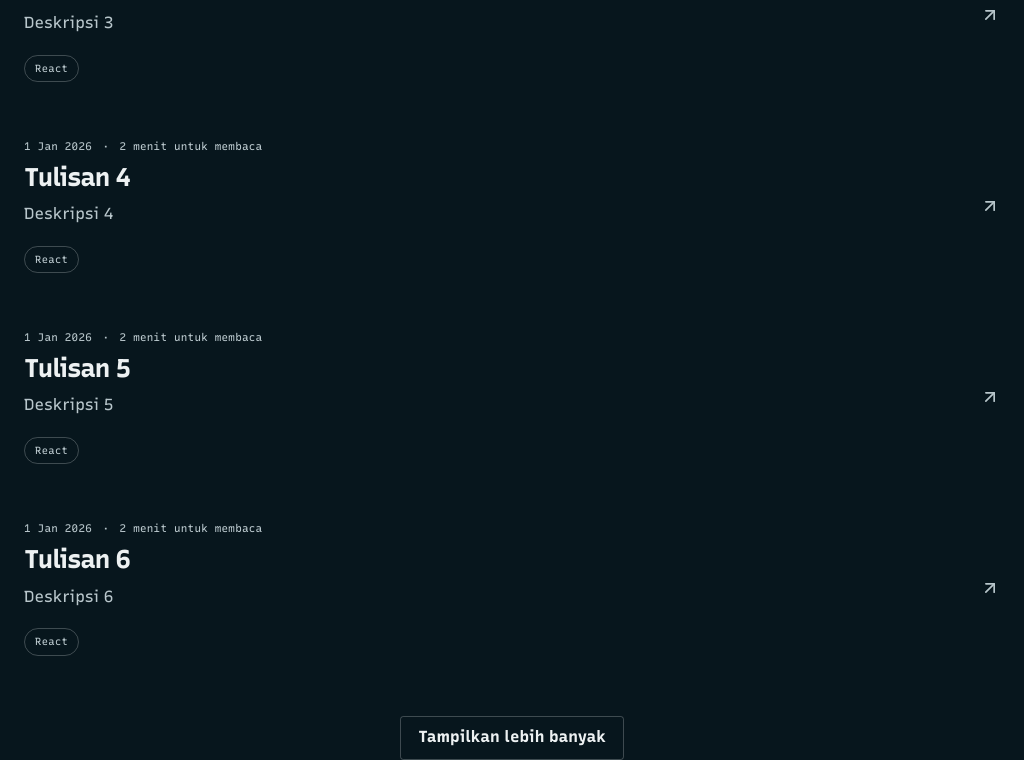
Test: PostBrowser › resets the visible count when filters change
(page scrolled)
Click the button "Tampilkan lebih banyak" at (512, 738), box [400,716,624,759]
(page scrolled)
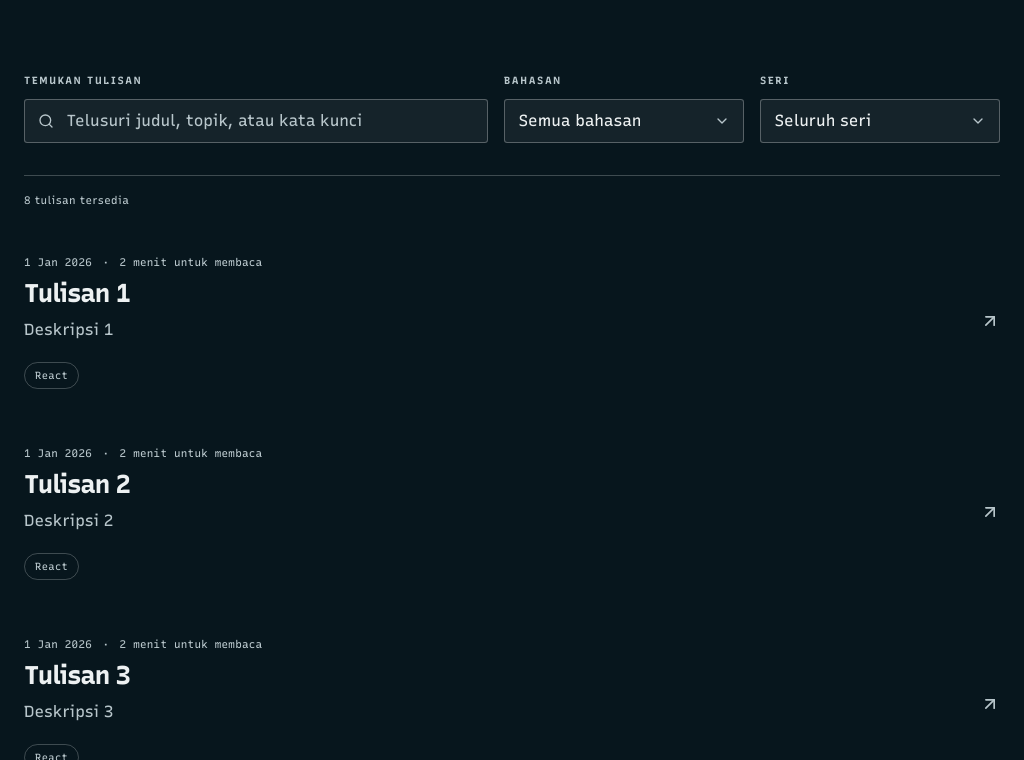
Type "deskripsi" into the field labelled "Temukan tulisan" at (256, 121), box [24,99,488,143]
(page scrolled)
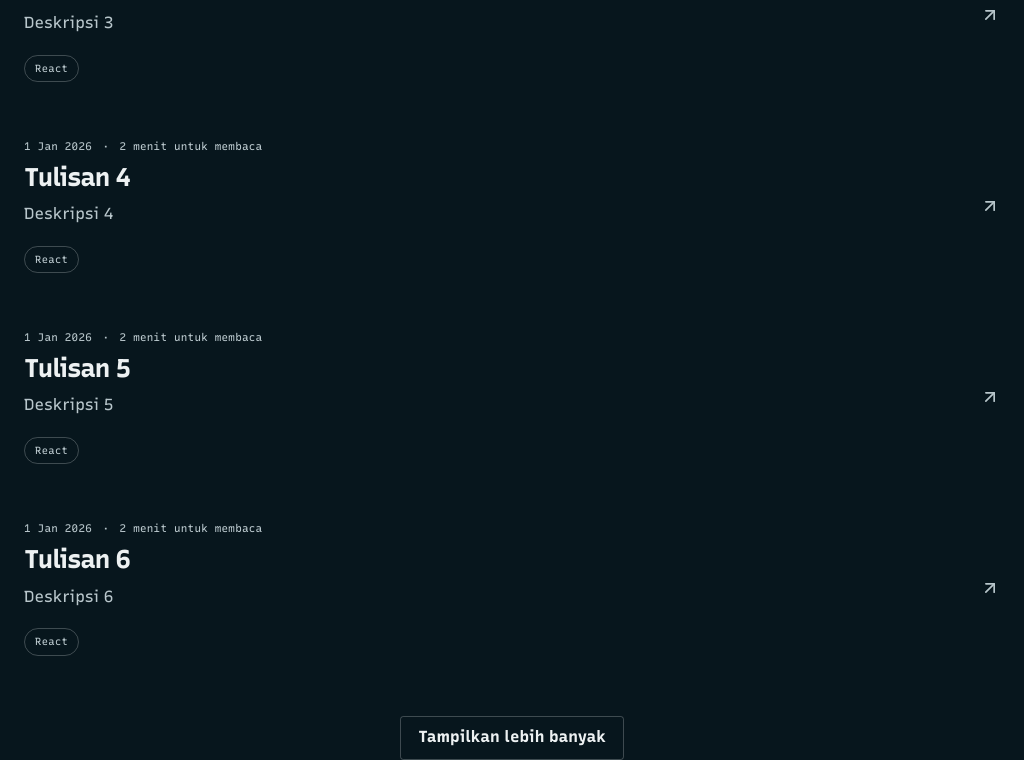
Now the button "Tampilkan lebih banyak" is shown, box [400,716,624,759]
